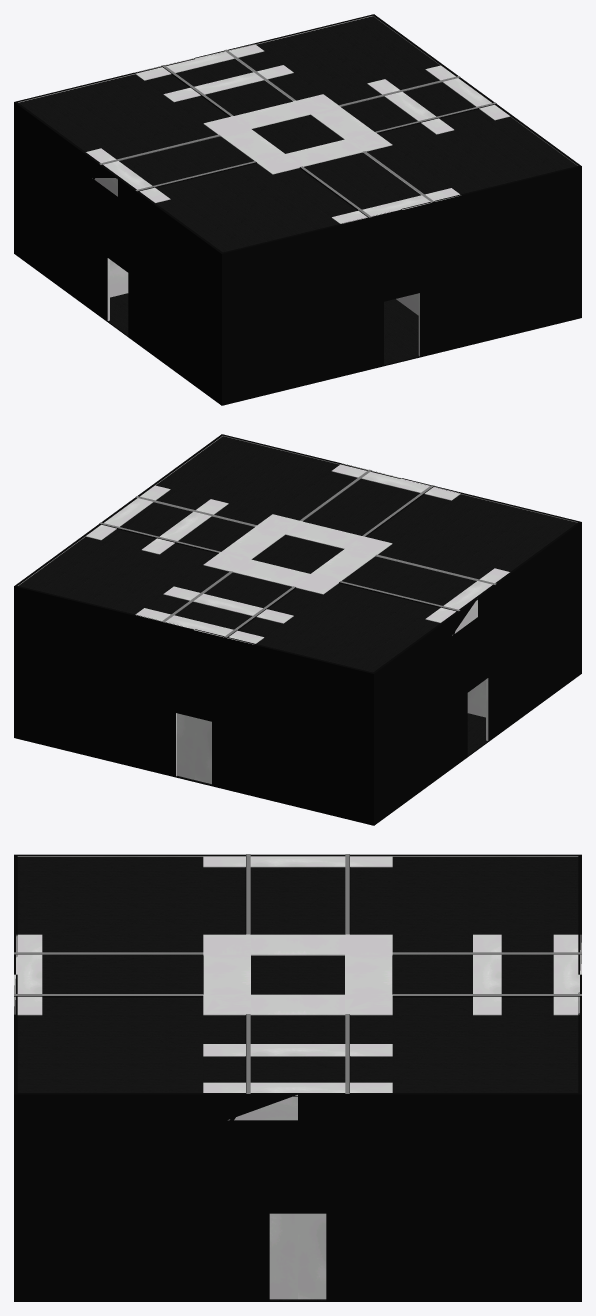
Rendered from Corner3.fbx.
3 views of the same model, one above another, from view 1: azimuth 30°, elevation 25°; view 2: azimuth 150°, elevation 25°; view 3: azimuth 270°, elevation 25° (orthographic). The views are drawn at different scales.
Parts seen in each view (by area): view 1: node_id9 (×3); view 2: node_id9 (×3); view 3: node_id9 (×3).
Part boxes in pixels (left/top/right/bottom): node_id9 (×3): left=14, top=14, right=581, bottom=405; node_id9 (×3): left=14, top=434, right=581, bottom=825; node_id9 (×3): left=14, top=854, right=581, bottom=1301.
Bounding box in the file's own units: 0.512 × 0.2068 × 0.512.
Materials: 4 (3 with a texture image).
